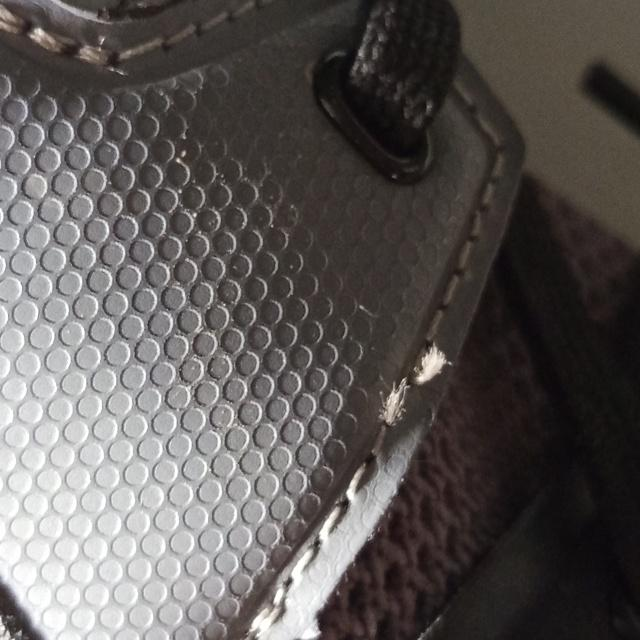broken: (366, 338, 462, 438)
